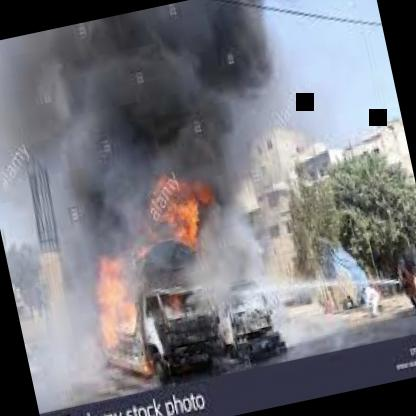fire: (77, 22, 228, 176), (108, 154, 254, 293)
